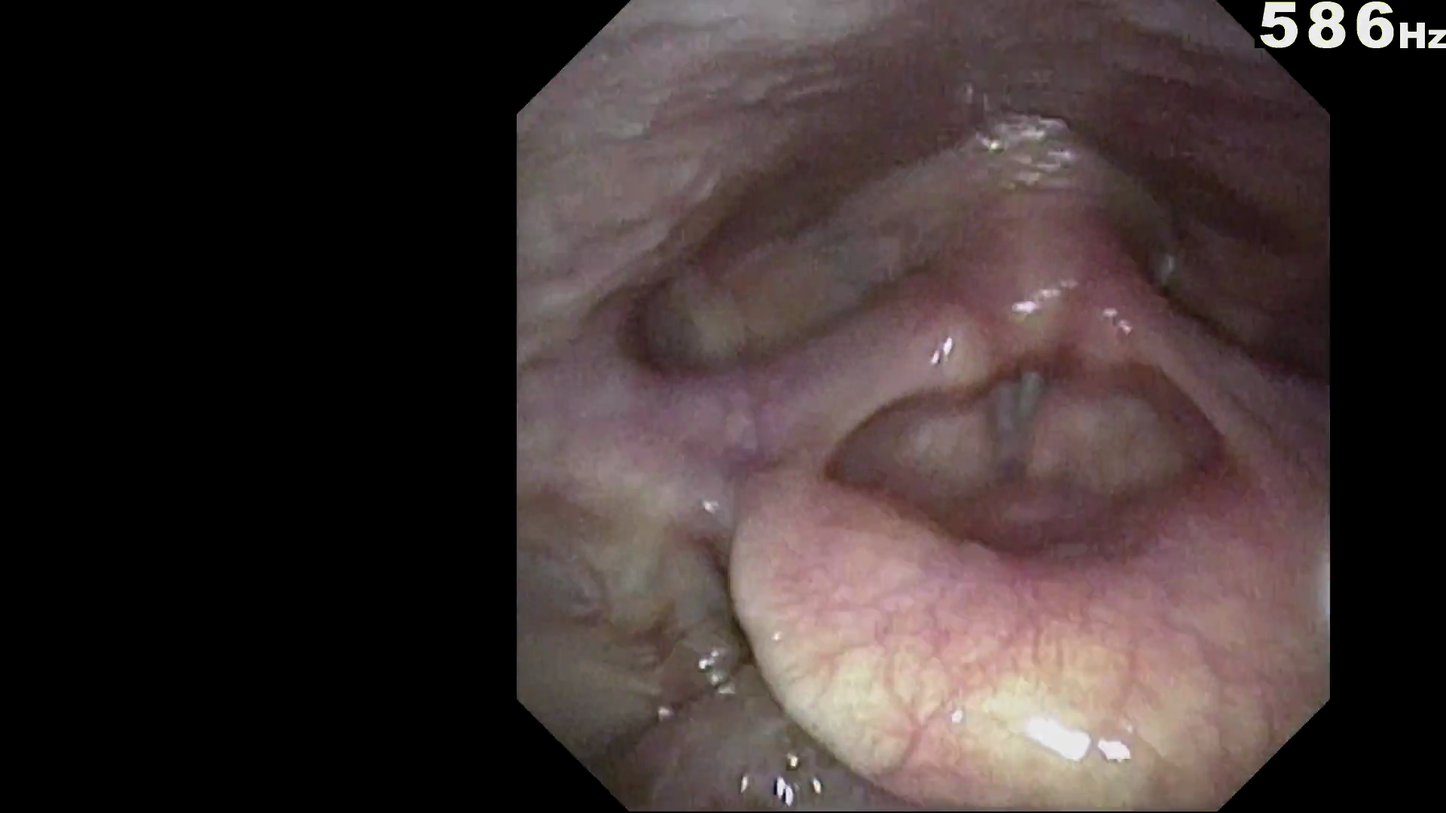epiglottis: (770, 553, 1284, 734)
trachea: (971, 360, 1067, 490)
